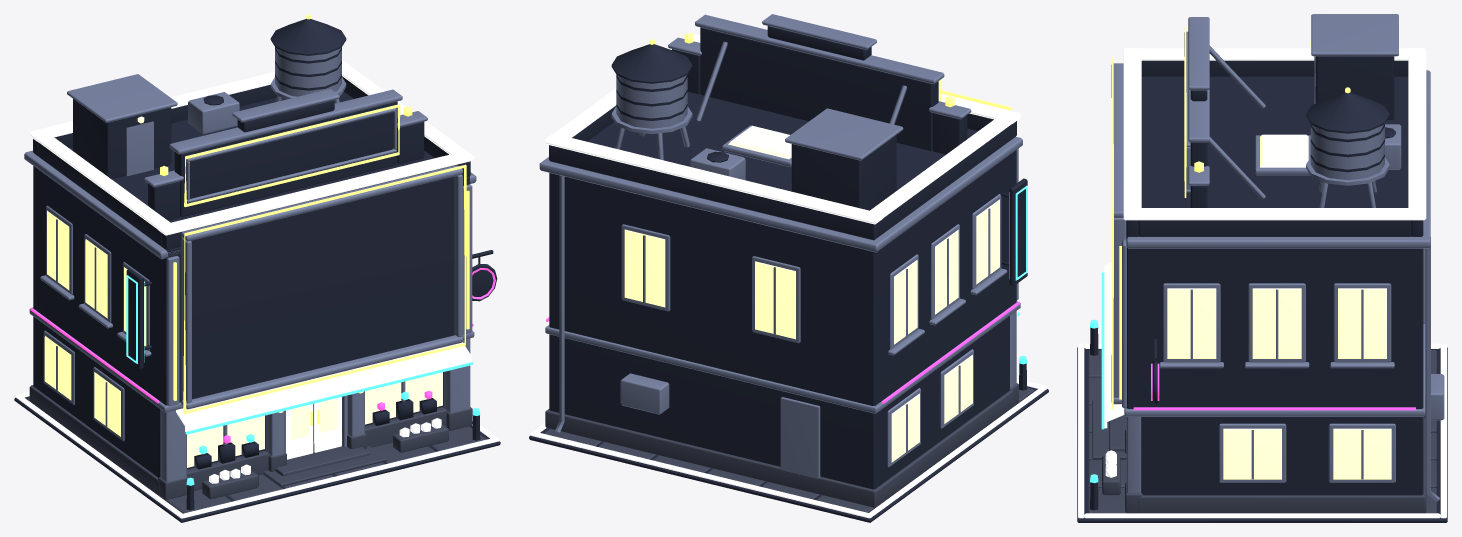
Rendered from lot3_shop.glb.
The picture shows the model from 3 angles, left to right: view 1: azimuth 30°, elevation 25°; view 2: azimuth 150°, elevation 25°; view 3: azimuth 270°, elevation 25°; orthographic projection. The views are drawn at different scales.
Visible parts, largest first — view 1: Lot; view 2: Lot; view 3: Lot.
Part boxes in pixels (x1,y1,x2,y2): Lot: (14, 14, 500, 522); Lot: (529, 14, 1048, 522); Lot: (1077, 14, 1447, 522).
Bounding box in the file's own units: 9.54 × 9.01 × 7.6.
